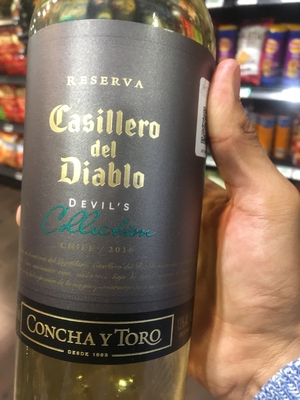casillero del diablo devils collection verde: (13, 14, 211, 400)
